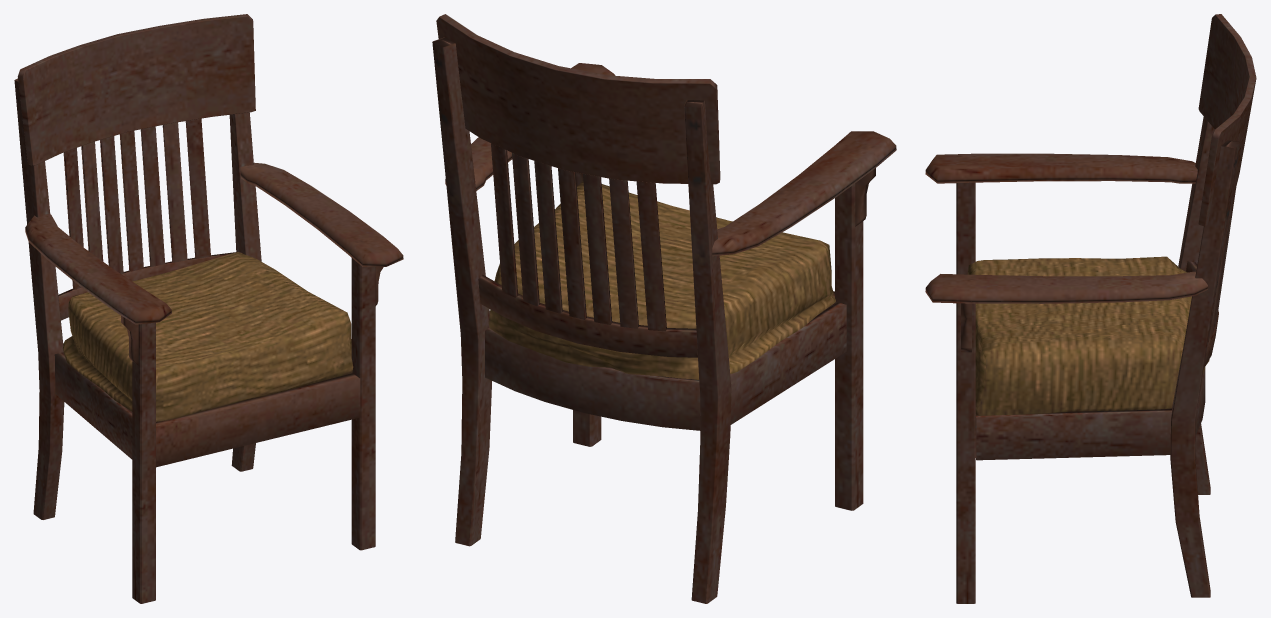
The model's file is 118_WoodChair.fbx.
3 renders of one model, left to right at view 1: azimuth 30°, elevation 25°; view 2: azimuth 150°, elevation 25°; view 3: azimuth 270°, elevation 25°, orthographic. The views are drawn at different scales.
Parts seen in each view (by area): view 1: LOD_1_Group_0_Sub_1__sm30_118_WoodChair03A_A_Mat; view 2: LOD_1_Group_0_Sub_1__sm30_118_WoodChair03A_A_Mat; view 3: LOD_1_Group_0_Sub_1__sm30_118_WoodChair03A_A_Mat.
Boxes of the visible parts, x1,y1,x2,y2 form: LOD_1_Group_0_Sub_1__sm30_118_WoodChair03A_A_Mat: [14, 14, 403, 603]; LOD_1_Group_0_Sub_1__sm30_118_WoodChair03A_A_Mat: [432, 14, 896, 603]; LOD_1_Group_0_Sub_1__sm30_118_WoodChair03A_A_Mat: [925, 14, 1256, 603].
Size of the model in its own units: 0.6598 by 1.03 by 0.653.
